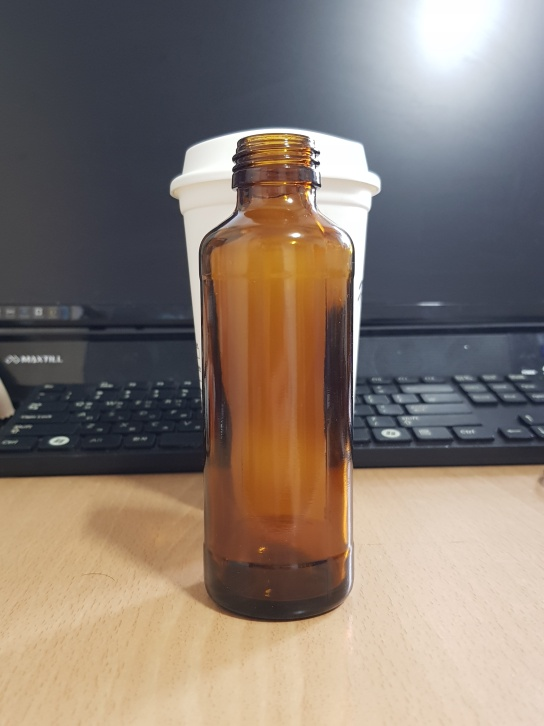Glass: (198, 131, 358, 626)
